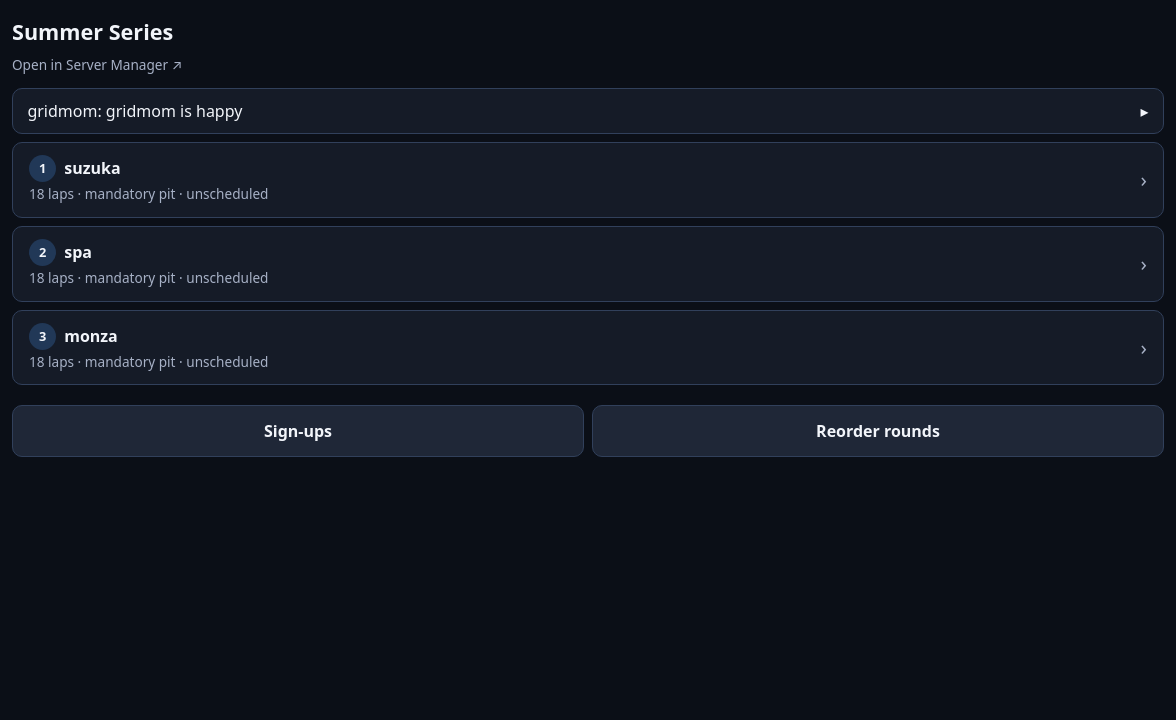
Test: reordering the rounds › goes dead the moment the order changes again
The width and height of the screenshot is (1176, 720).
Expected: the heading "Summer Series" is shown, left=12, top=17, right=173, bottom=46
What coordinates should you click on to do the following:
click the button "Reorder rounds"
I would click on:
 (878, 431)
Its box is left=592, top=406, right=1164, bottom=457.
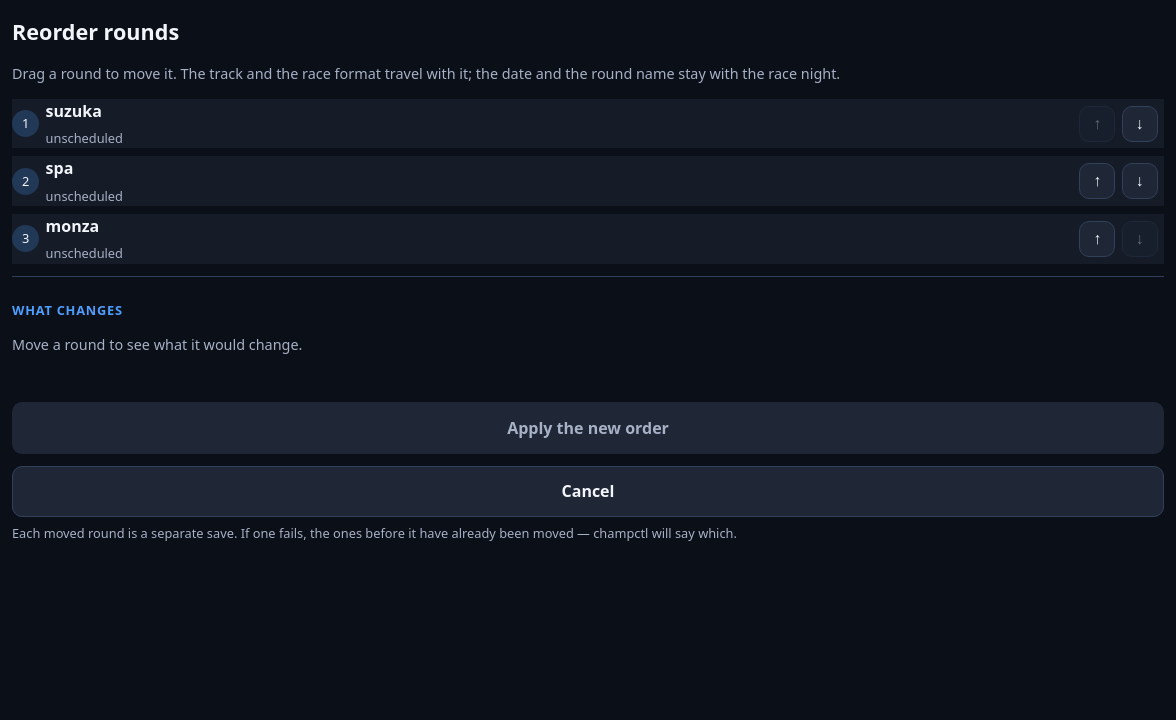
Expected: the heading "Reorder rounds" is shown, left=12, top=17, right=179, bottom=46
What coordinates should you click on to do the following:
click the button named "Move round 2 up"
I would click on:
 (1097, 181)
Its box is left=1079, top=163, right=1115, bottom=199.
Wait 400 ms
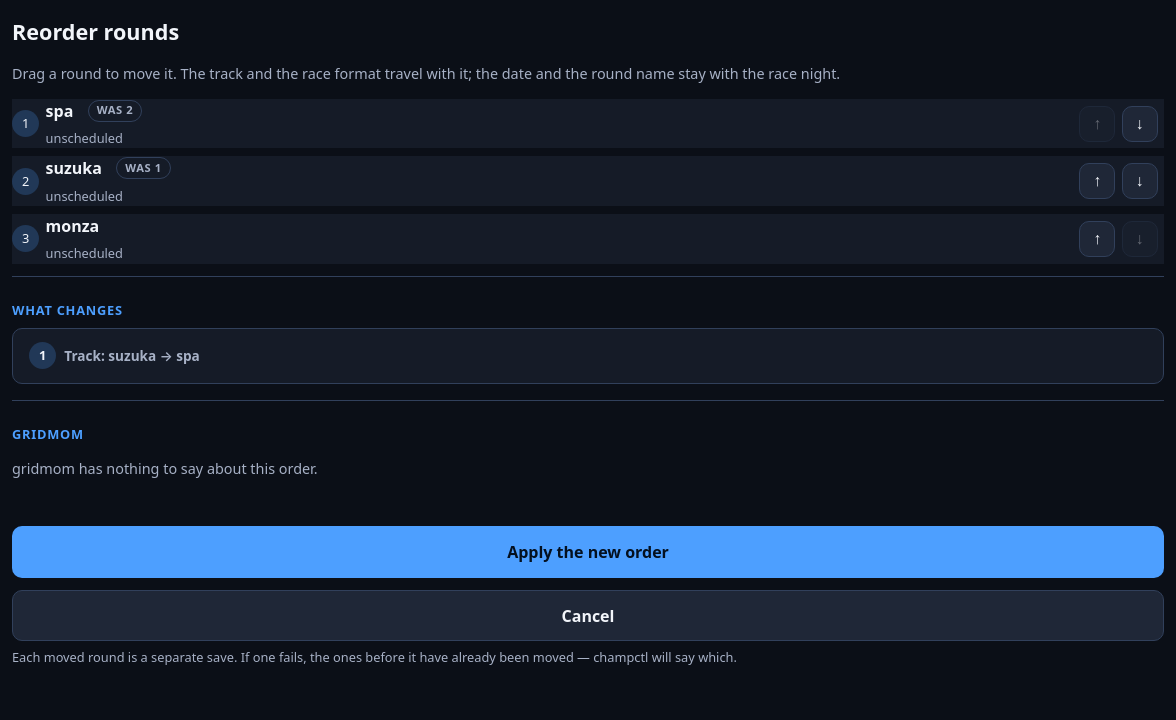
Expected: the button "Apply the new order" is enabled, left=12, top=526, right=1164, bottom=578
What coordinates should you click on to do the following:
click the button named "Move round 3 up"
I would click on:
 (1097, 239)
Its box is left=1079, top=221, right=1115, bottom=257.
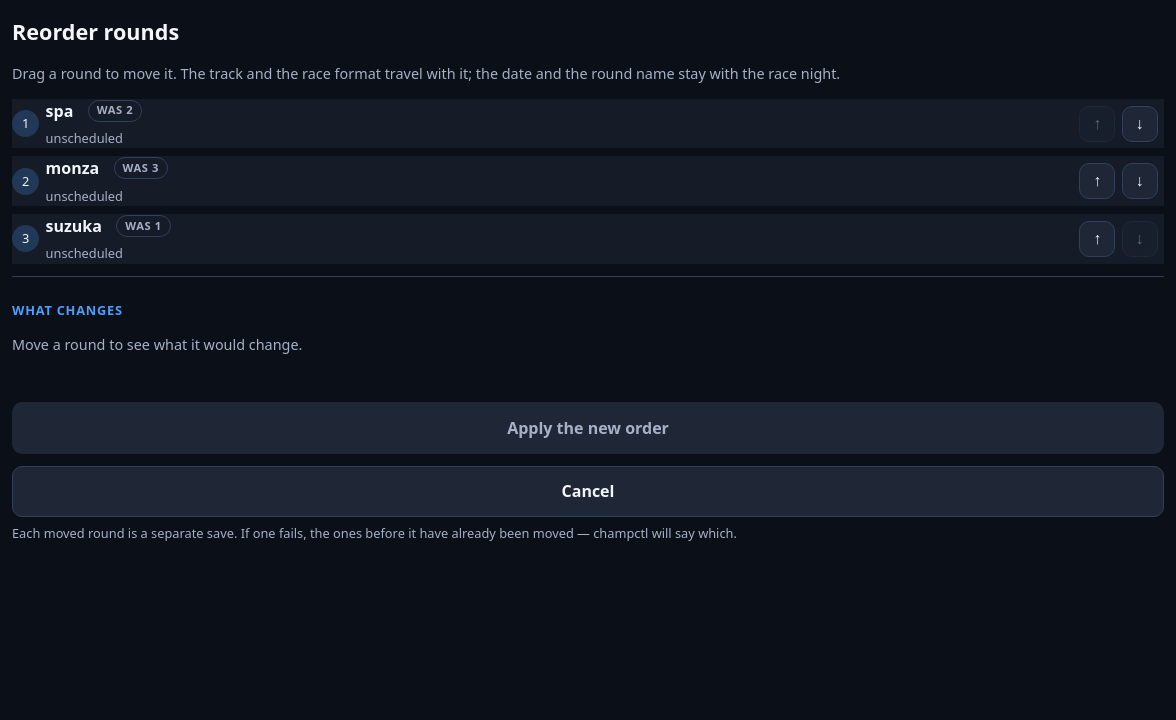
Expected: the button "Apply the new order" is disabled, left=12, top=402, right=1164, bottom=454
